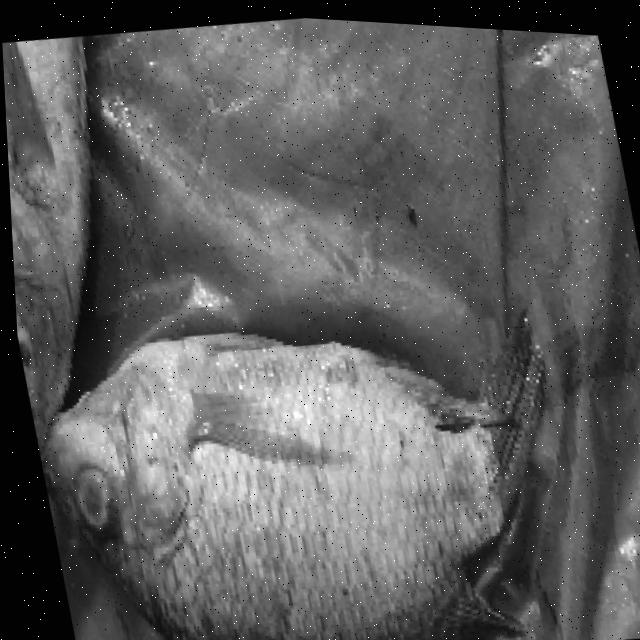Non-Fresh: (14, 294, 512, 640)
